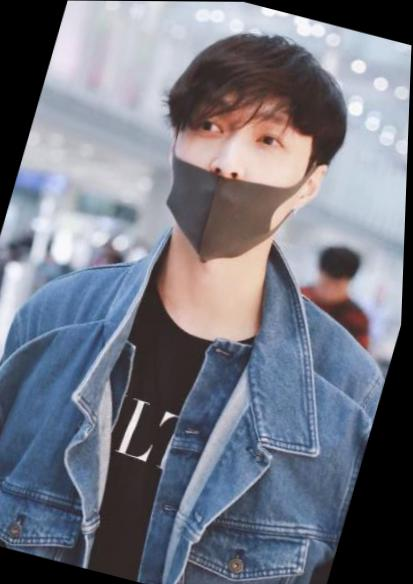WRONG: (145, 75, 320, 276)
